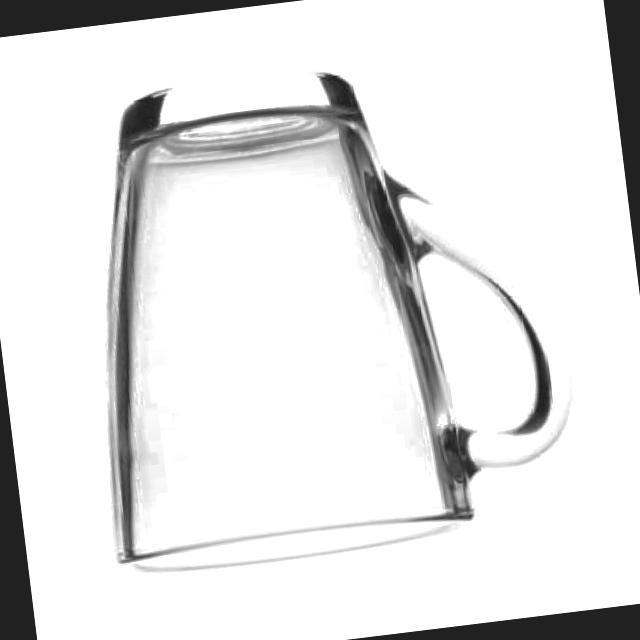Mug: (57, 40, 590, 582)
